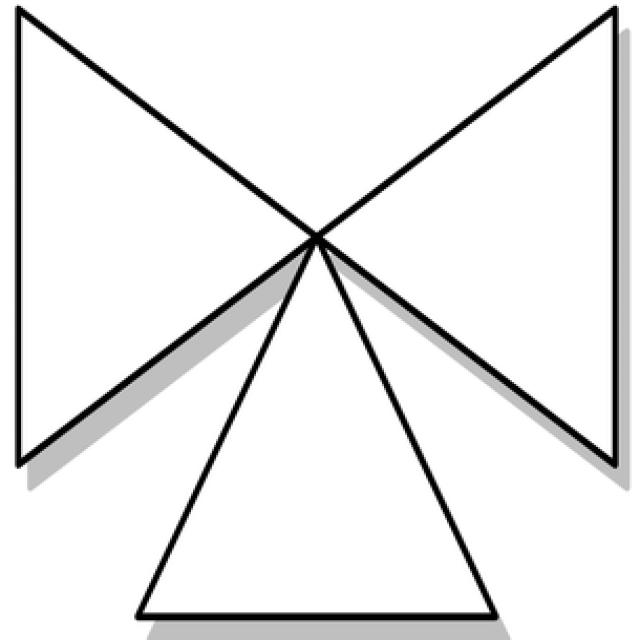3-way Valve: (141, 9, 614, 617), (12, 11, 320, 470), (317, 1, 616, 462), (136, 230, 494, 612), (19, 11, 313, 460)
